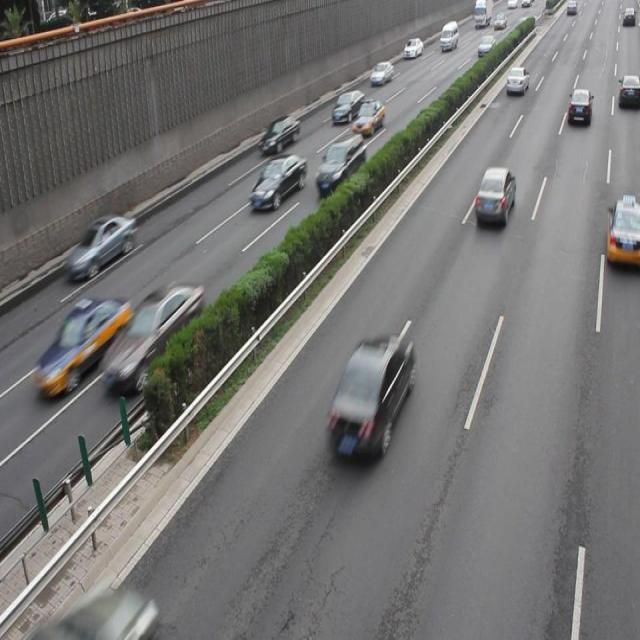car: (102, 279, 204, 397), (323, 331, 413, 463), (32, 294, 131, 399), (65, 212, 136, 280), (248, 152, 306, 212), (314, 130, 365, 192), (603, 194, 640, 267), (473, 165, 515, 227), (258, 113, 300, 158), (352, 97, 384, 138), (330, 88, 363, 124), (565, 86, 591, 127)
